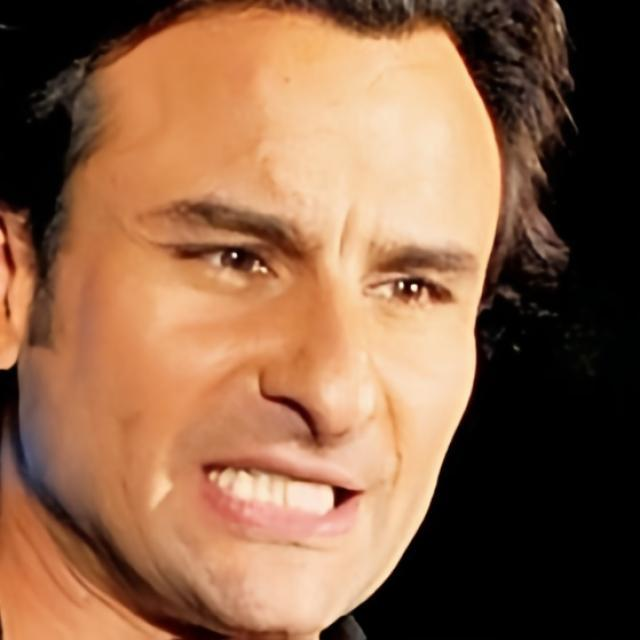disgust: (21, 0, 507, 639)
